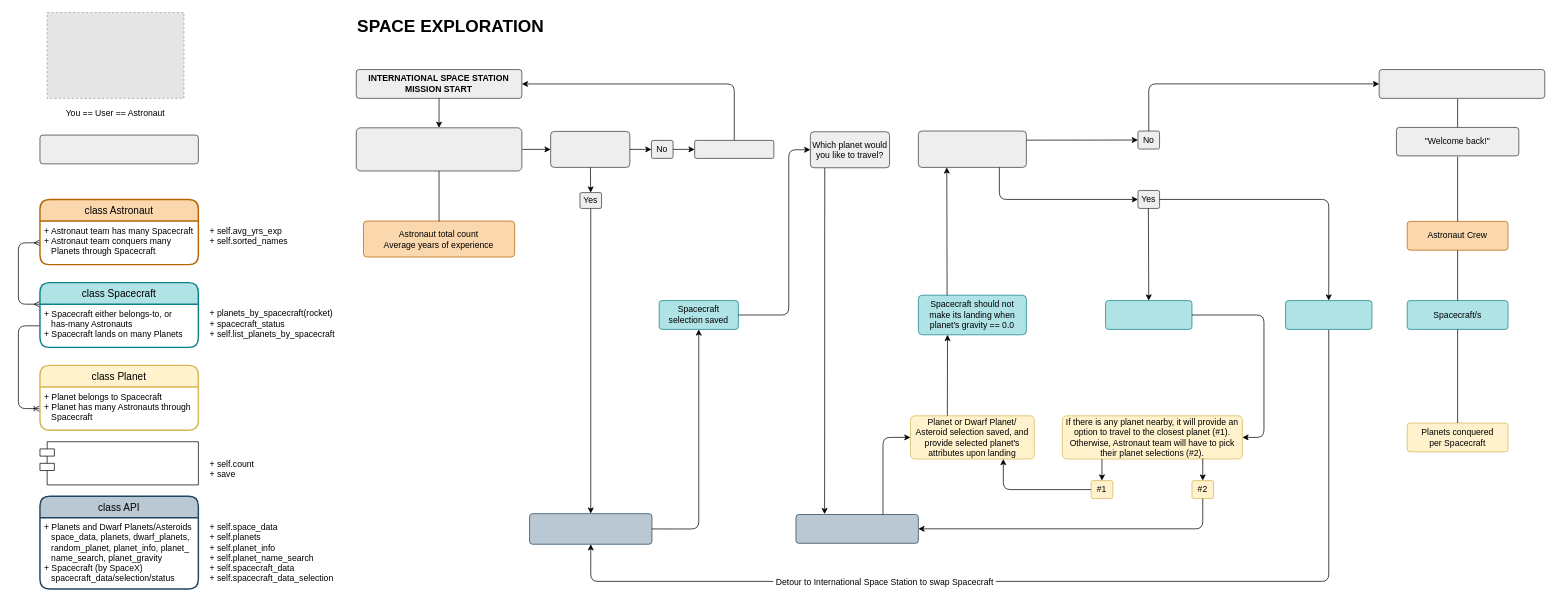
The diagram is 1557 pixels wide and 605 high, and some of its shapes have lost their labels. Grey dashed boxes stand in for pictures. The shapes that lost their labels are listed below. From the top down, each one's centre as x and y in pixels, then its label:
At point 1461,83: "RETURN TO INTERNATIONAL SPACE STATION".
At point 118,149: "CLI".
At point 439,149: "Greeting User enters his / her name Optional: add another Astronaut friend".
At point 590,149: "Are you ready to travel to space?".
At point 734,149: "Mission Abort".
At point 972,148: "Would you like to travel to other Planets or Dwarf/Asteroids?".
At point 1148,314: "If Spacecraft current success rate >= 50%".
At point 1328,314: "If Spacecraft current success rate < 50%".
At point 118,463: "Module Paramable::ClassMethods Paramable::InstanceMethods".
At point 590,528: "SpaceX Spacecraft selections".
At point 856,528: "Planet or Dwarf Planet/Asteroid Selections".
